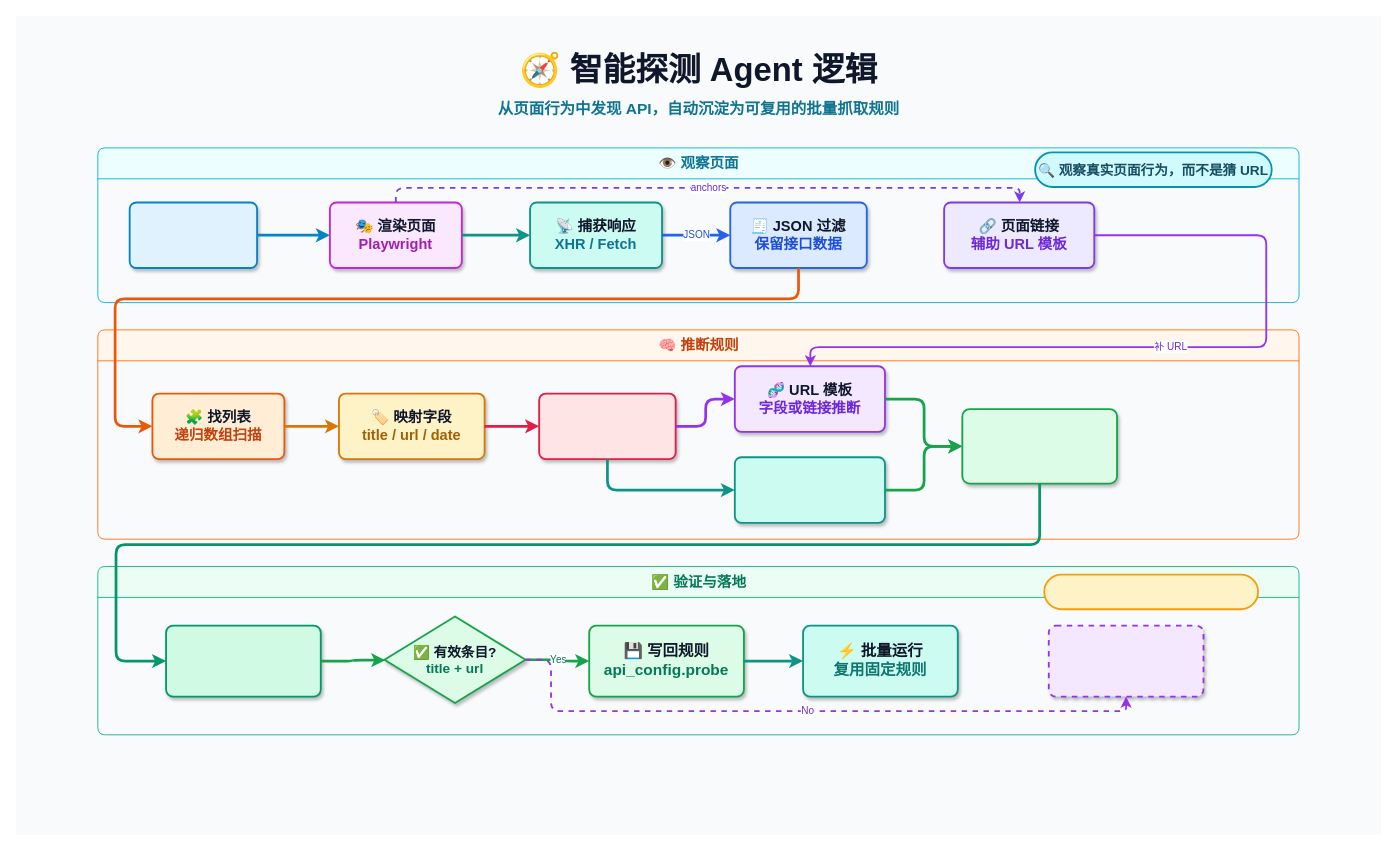
The diagram is 1396 pixels wide and 850 high, and some of its shapes have lost their labels. Here are the shapes that lost their labels. From the top down, the centre of each, then its label:
At point 194,236: "🌐 目标网页 root_url".
At point 608,427: "📊 候选评分 选文章 API".
At point 1040,447: "⚙️ 生成 Probe 固定爬取规则".
At point 810,491: "📄 分页推断 page / total / more".
At point 1151,591: "🚀 成功一次，后续稳定复用".
At point 244,662: "🧪 自检 Probe ApiAdapter 复跑".
At point 1126,662: "🧠 回退 PlanAgent LLM 选链接".
